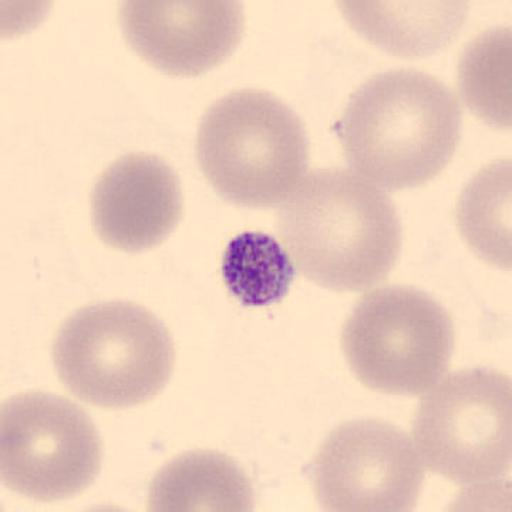Platelet: (218, 226, 298, 310)
RBC: (278, 164, 405, 296), (335, 65, 464, 193), (193, 84, 312, 212), (49, 296, 179, 411), (338, 282, 456, 398), (409, 362, 512, 483), (2, 389, 106, 504), (305, 414, 426, 512), (114, 0, 248, 80), (87, 150, 185, 256), (332, 0, 472, 62), (144, 444, 258, 512), (453, 158, 512, 271), (455, 23, 512, 131), (435, 436, 512, 512), (436, 472, 512, 512), (1, 0, 60, 45), (46, 502, 156, 512)
